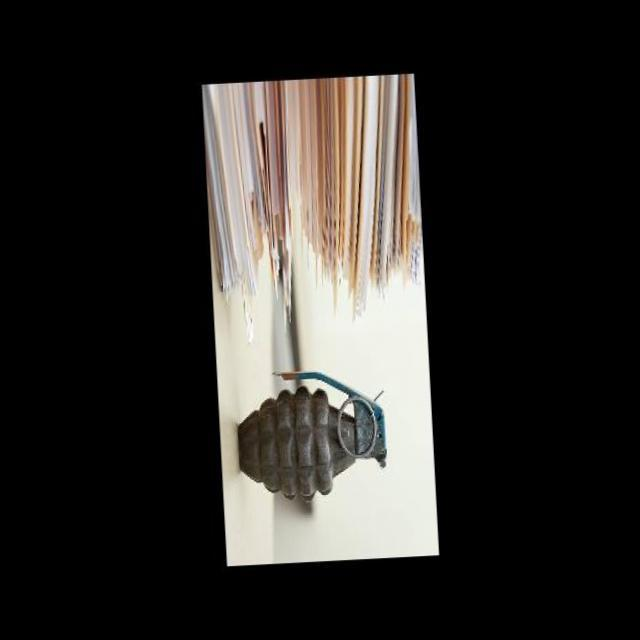grenade: (218, 342, 390, 514)
